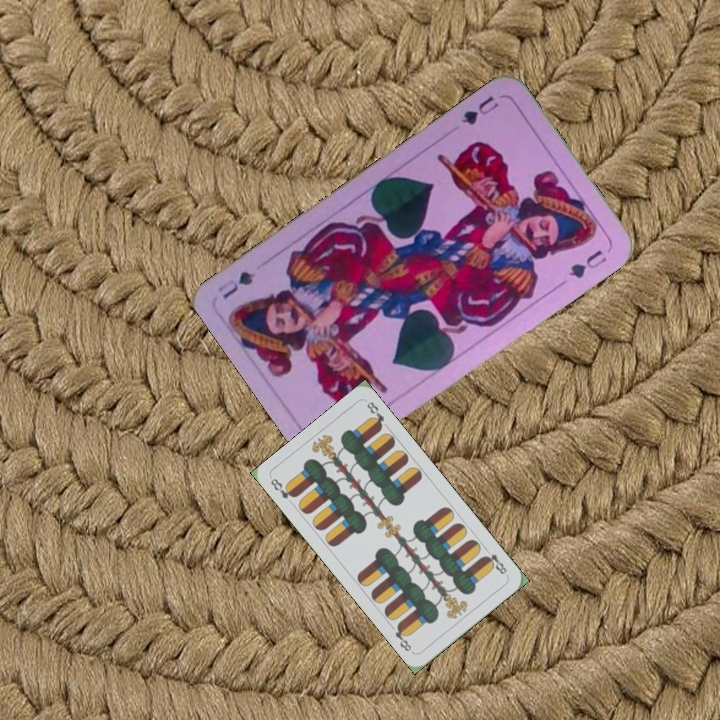E8: (266, 474, 298, 508), (479, 544, 509, 577)
GU: (457, 91, 501, 128)
